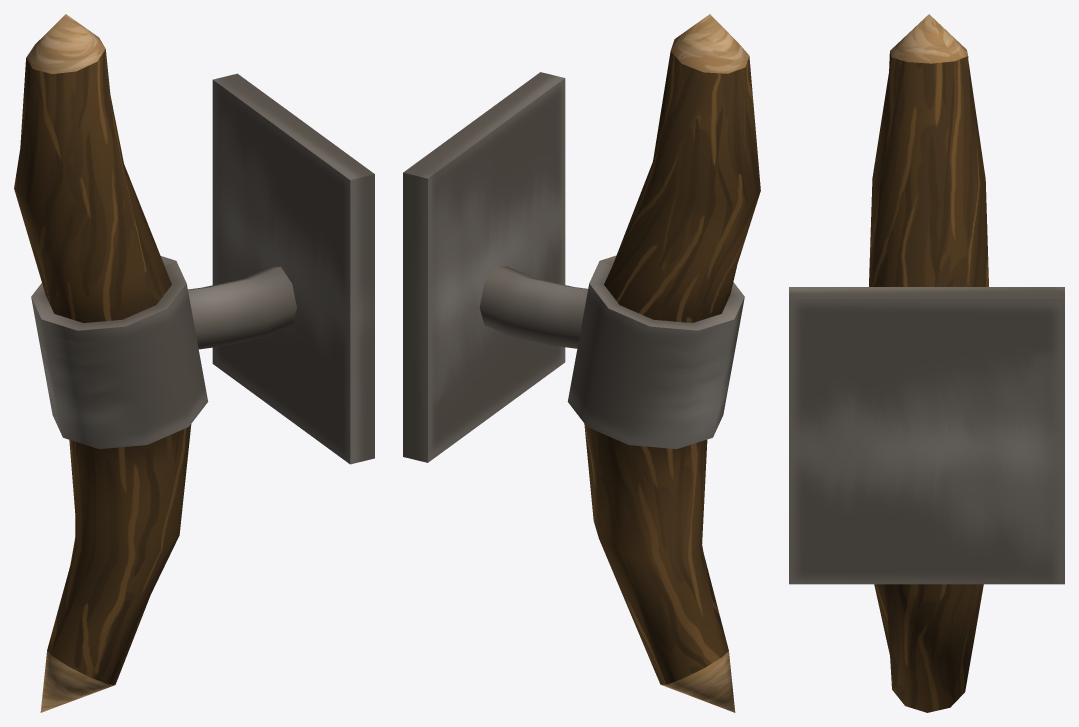
File: torch test.FBX
3 renders of one model, left to right at view 1: azimuth 30°, elevation 25°; view 2: azimuth 150°, elevation 25°; view 3: azimuth 270°, elevation 25°, orthographic.
Parts seen in each view (by area): view 1: Cylinder001; view 2: Cylinder001; view 3: Cylinder001.
Boxes of the visible parts, box(x1,y1,x2,y2) form: Cylinder001: box(14, 14, 374, 712); Cylinder001: box(403, 14, 760, 712); Cylinder001: box(789, 14, 1064, 712).
Bounding box in the file's own units: 26.01 × 60.92 × 21.9.
1 material, 1 textured.
